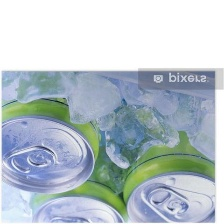can: (0, 90, 100, 196), (121, 126, 214, 224), (29, 188, 128, 223)
